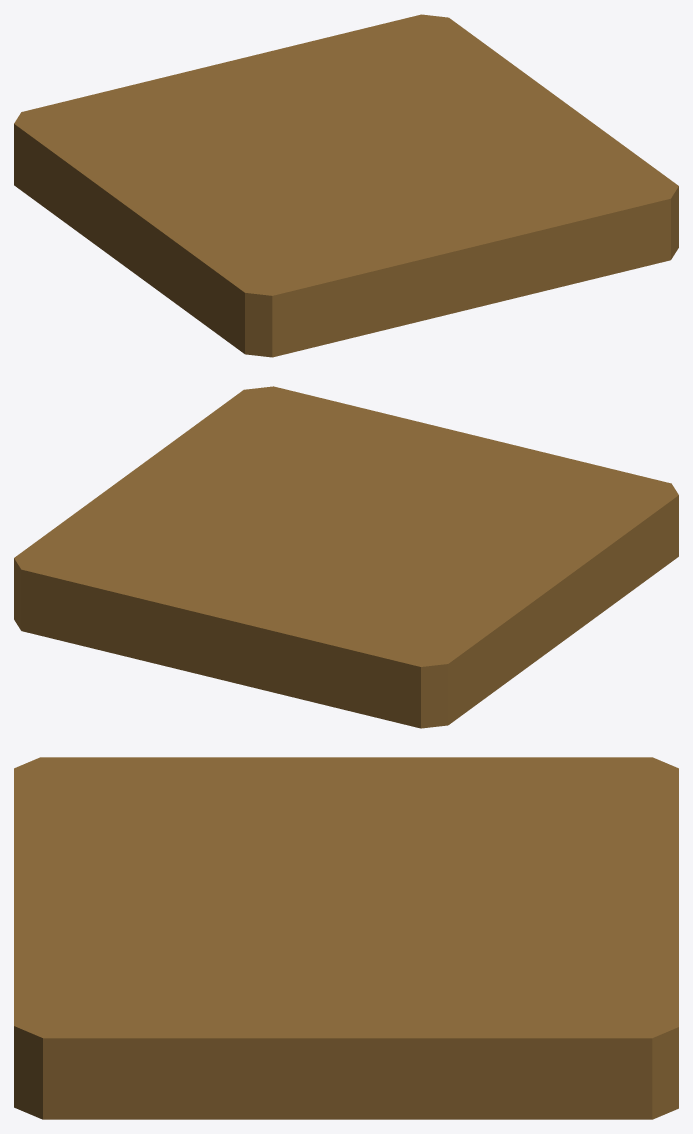
The model's file is 3D_Plaque_PateFeuillette.fbx.
3 views of the same model, one above another, from view 1: azimuth 30°, elevation 25°; view 2: azimuth 150°, elevation 25°; view 3: azimuth 270°, elevation 25° (orthographic). The views are drawn at different scales.
Visible parts, largest first — view 1: Sol; view 2: Sol; view 3: Sol.
Part boxes in pixels (box(x1,y1,x2,y2)): Sol: box(14, 14, 678, 357); Sol: box(14, 386, 678, 728); Sol: box(14, 757, 678, 1119).
Size of the model in its own units: 2 by 0.2707 by 2.
